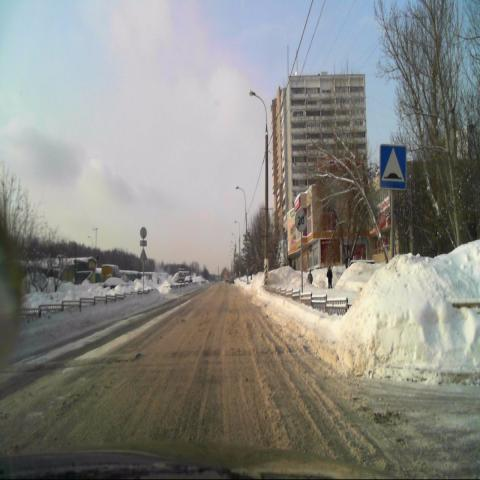3_25: (294, 209, 308, 231)
